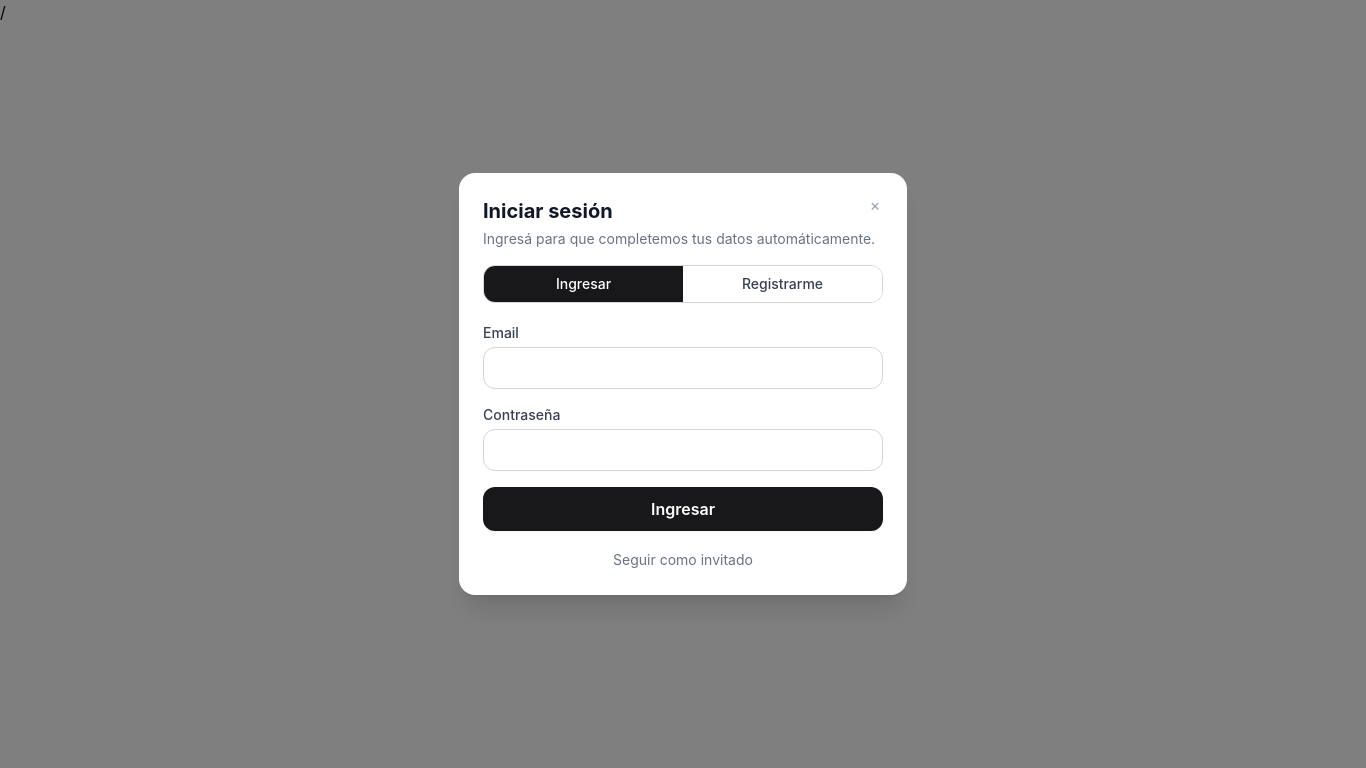
Test: CustomerAuthModal › muestra el error del servidor al ingresar
Type "ana@mail.com" into the field labelled "Email" at (683, 368), box [483,347,883,389]
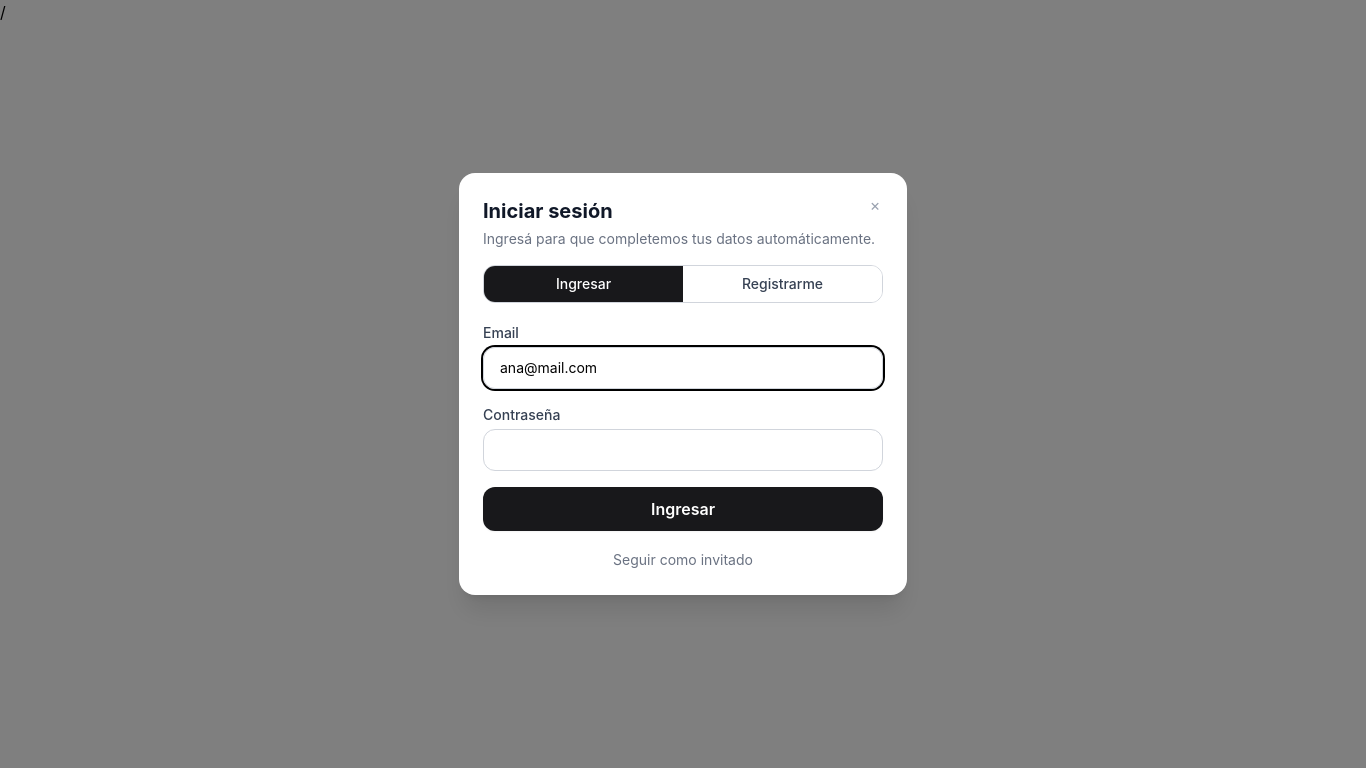
Type "mala" into the password field labelled "Contraseña" at (683, 450), box [483,429,883,471]
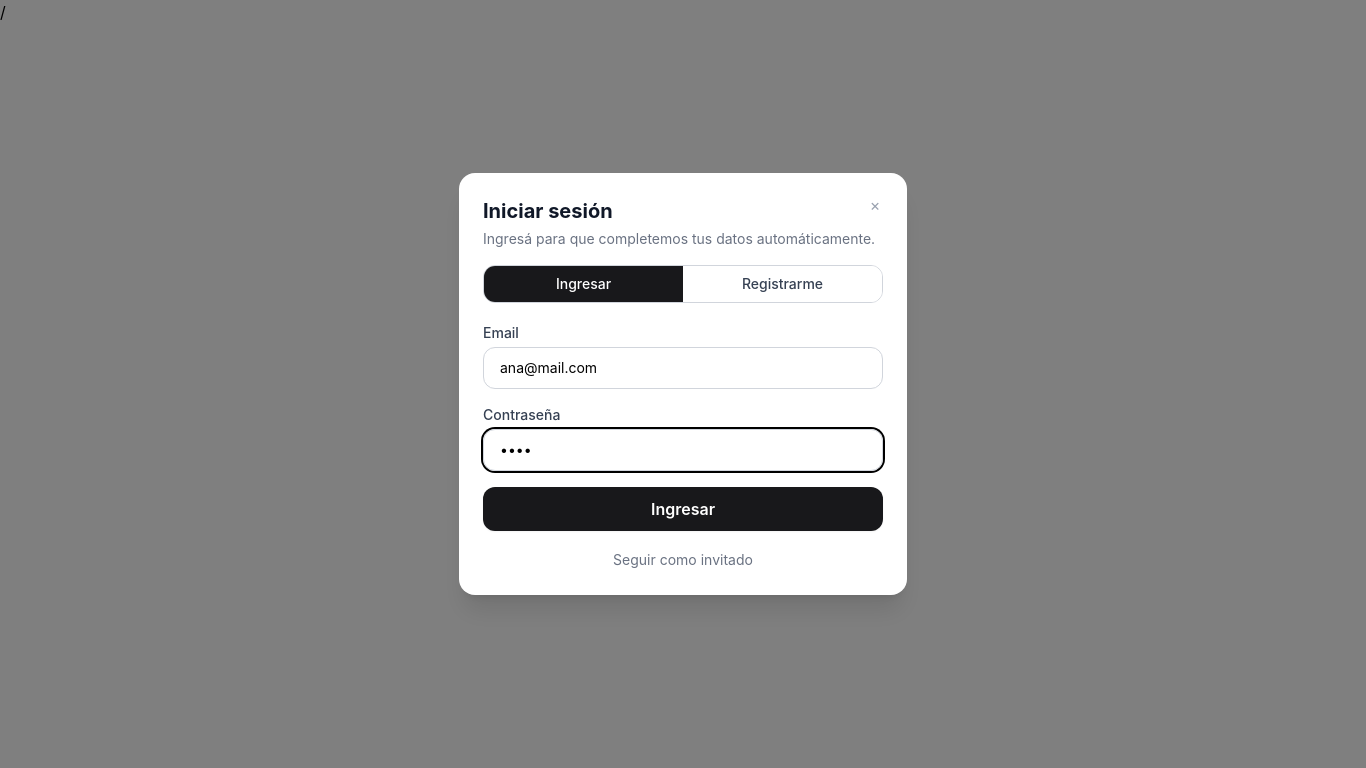
Click the button "Ingresar" below "Contraseña" at (683, 509), box [483,487,883,531]
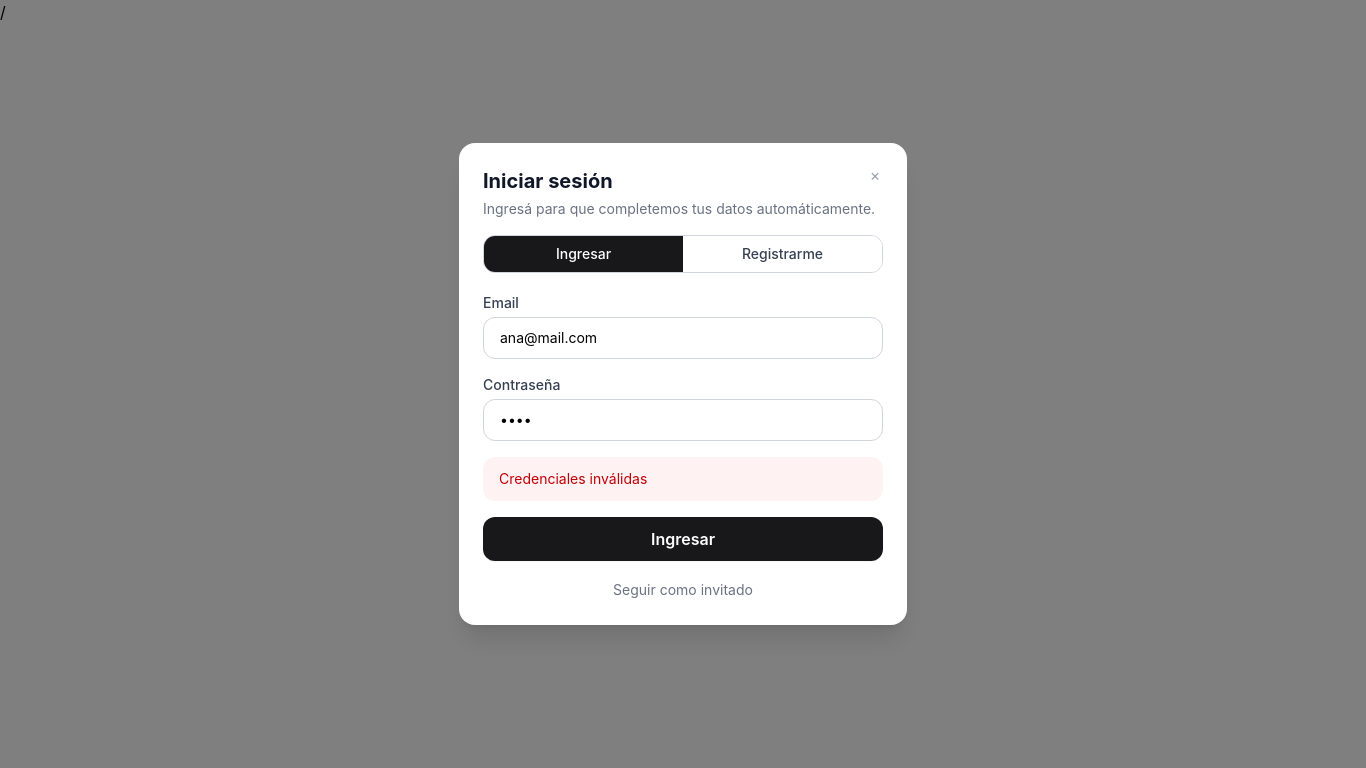
Now the message reads "Credenciales inválidas", box [499,470,647,487]
